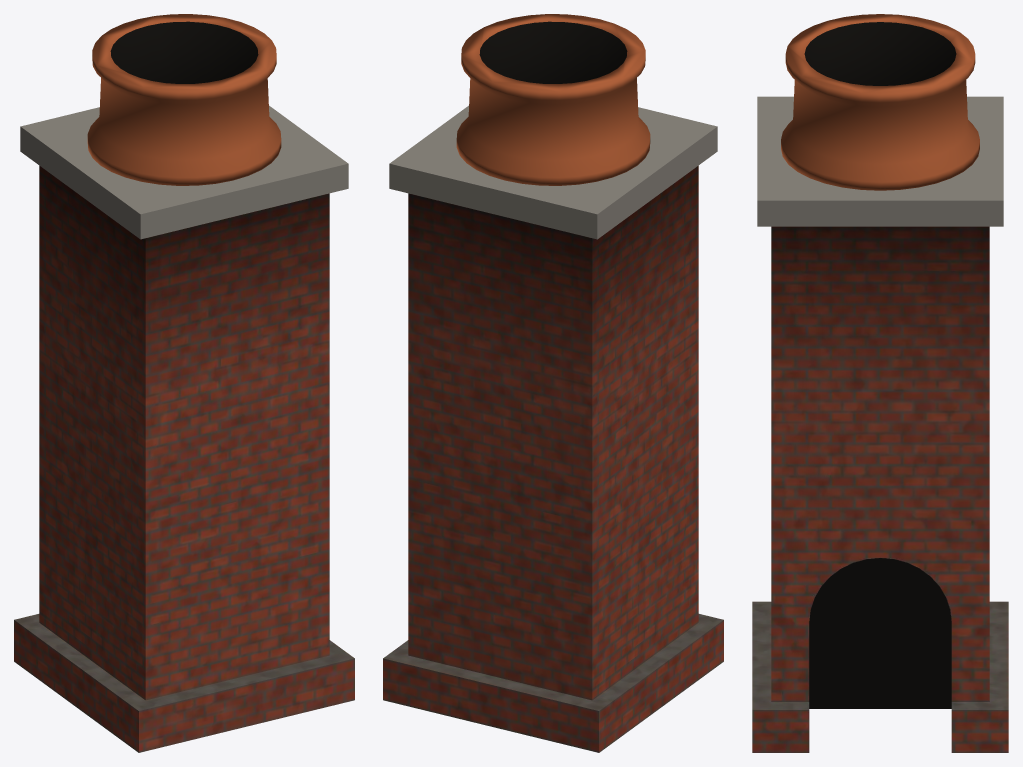
The model's file is brick-chimney.glb.
3 renders of one model, left to right at view 1: azimuth 30°, elevation 25°; view 2: azimuth 150°, elevation 25°; view 3: azimuth 270°, elevation 25°, orthographic. The views are drawn at different scales.
Visible parts, largest first — view 1: stack, pot, cap.001; view 2: stack, pot, cap.001; view 3: stack, pot, cap.001.
Part boxes in pixels (bbox=[...]): stack: bbox=[14, 165, 354, 752]; pot: bbox=[87, 14, 281, 185]; cap.001: bbox=[20, 105, 348, 239]; stack: bbox=[383, 165, 723, 752]; pot: bbox=[456, 14, 650, 185]; cap.001: bbox=[389, 105, 717, 239]; stack: bbox=[752, 226, 1008, 752]; pot: bbox=[781, 14, 979, 190]; cap.001: bbox=[757, 96, 1003, 226].
Size of the model in its own units: 5.4 by 15 by 5.4.
Materials: 5 (1 with a texture image).
